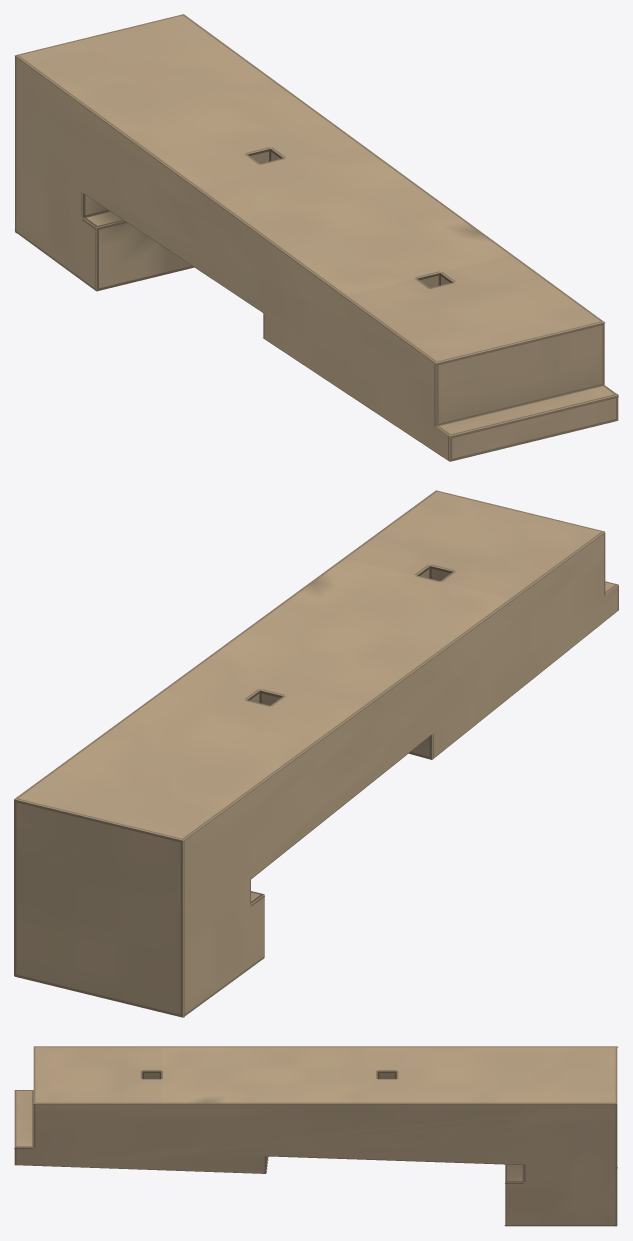
The picture shows the model from 3 angles, top to bottom: view 1: azimuth 30°, elevation 25°; view 2: azimuth 150°, elevation 25°; view 3: azimuth 270°, elevation 25°; orthographic projection. The views are drawn at different scales.
Parts seen in each view (by area): view 1: part-b; view 2: part-b; view 3: part-b.
Boxes of the visible parts, x1=… form: part-b: x1=14, y1=14, x2=618, y2=461; part-b: x1=14, y1=490, x2=618, y2=1017; part-b: x1=14, y1=1046, x2=618, y2=1226.
Bounding box in the file's own units: 0.1209 × 0.1213 × 0.5391.
